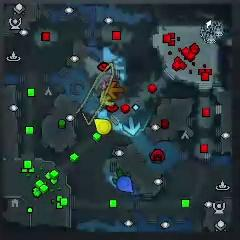p1: (118, 176, 132, 193)
p4: (93, 118, 111, 134)
x1: (101, 76, 119, 90)
x2: (99, 91, 113, 106)
x3: (123, 117, 141, 135)
x4: (113, 170, 131, 185)
x5: (106, 83, 124, 99)
